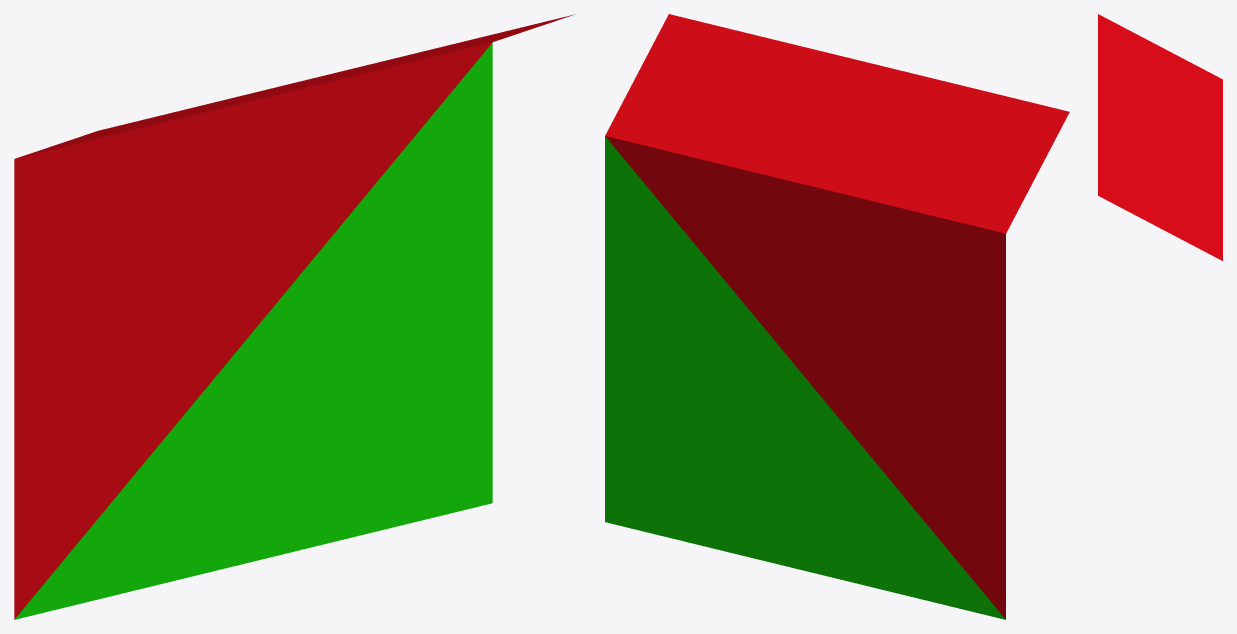
Rendered from green_red_square.glb.
3 renders of one model, left to right at view 1: azimuth 30°, elevation 25°; view 2: azimuth 150°, elevation 25°; view 3: azimuth 270°, elevation 25°, orthographic. The views are drawn at different scales.
Parts seen in each view (by area): view 1: rect; view 2: rect; view 3: rect.
Boxes of the visible parts, x1=… form: rect: x1=14, y1=14, x2=574, y2=619; rect: x1=605, y1=14, x2=1069, y2=619; rect: x1=1098, y1=14, x2=1222, y2=260.
Size of the model in its own units: 19.34 by 20.95 by 5.56.
